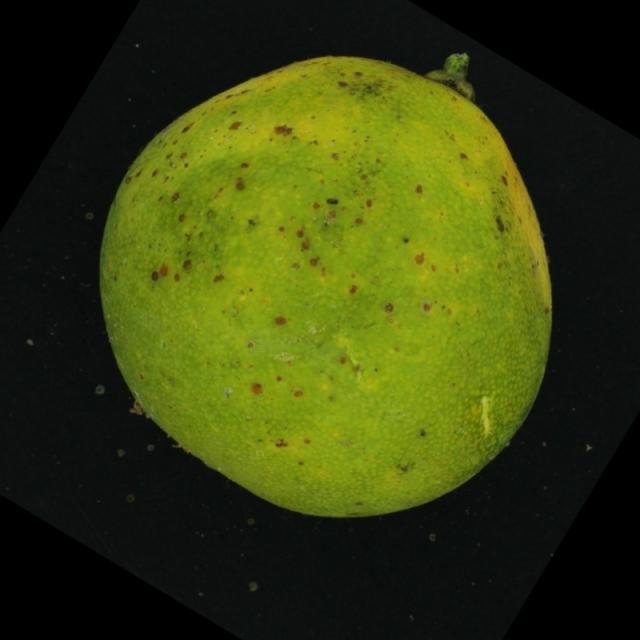grenning: (82, 34, 567, 533)
